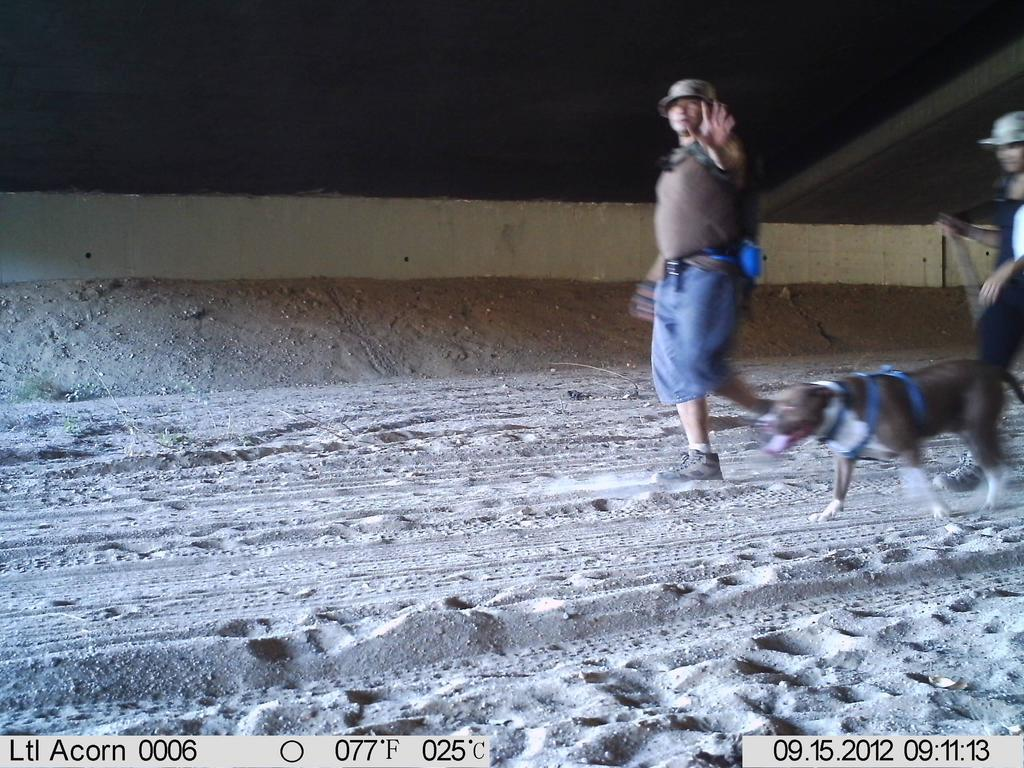dog: (754, 357, 1024, 525)
